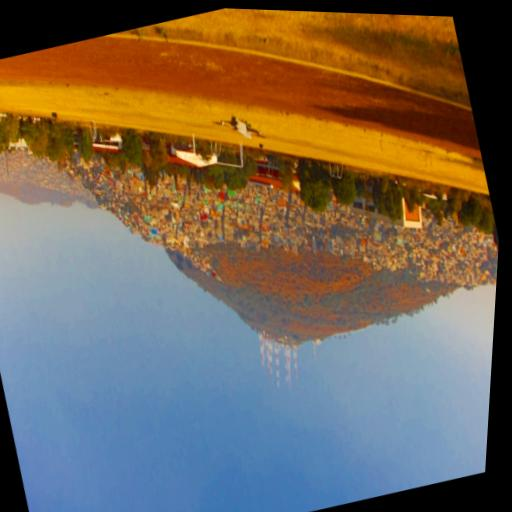drones: (206, 97, 269, 153)
